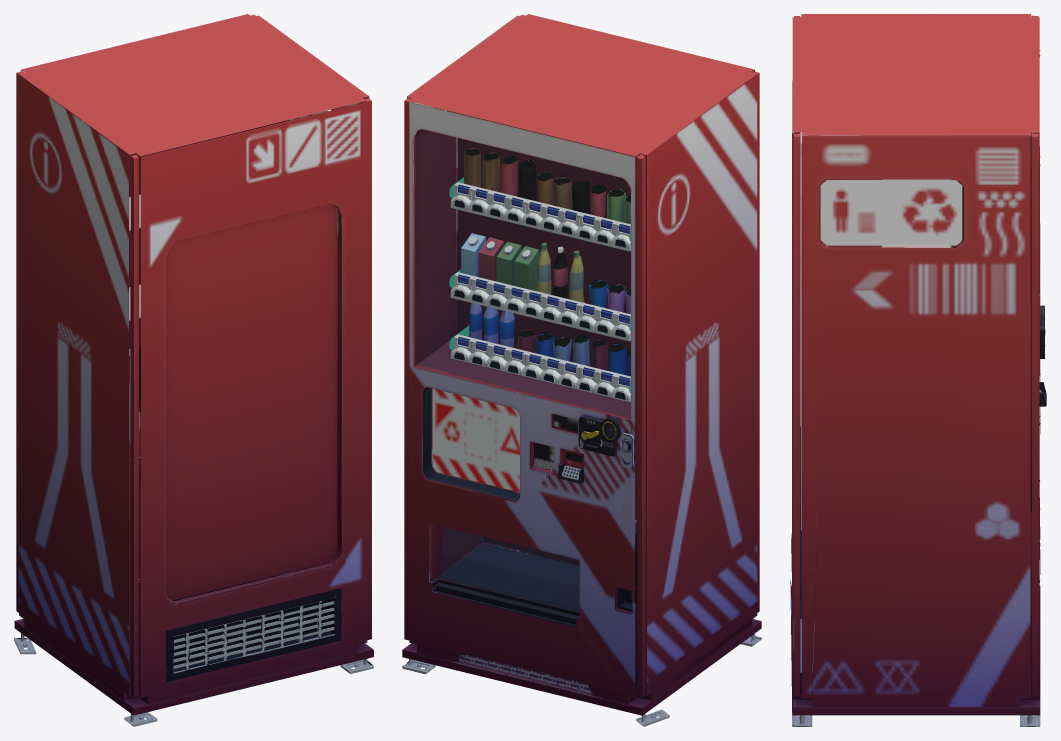
Rendered from vending_machine.glb.
3 renders of one model, left to right at view 1: azimuth 30°, elevation 25°; view 2: azimuth 150°, elevation 25°; view 3: azimuth 270°, elevation 25°, orthographic. The views are drawn at different scales.
Visible parts, largest first — view 1: Cube.Slice.003_Material.001_0; view 2: Cube.Slice.003_Material.001_0; view 3: Cube.Slice.003_Material.001_0.
Boxes of the visible parts, x1,y1,x2,y2 form: Cube.Slice.003_Material.001_0: [14, 14, 373, 726]; Cube.Slice.003_Material.001_0: [402, 14, 761, 726]; Cube.Slice.003_Material.001_0: [790, 14, 1046, 726].
Size of the model in its own units: 1.05 by 2.25 by 0.8845.
Materials: 5 (4 with a texture image).
